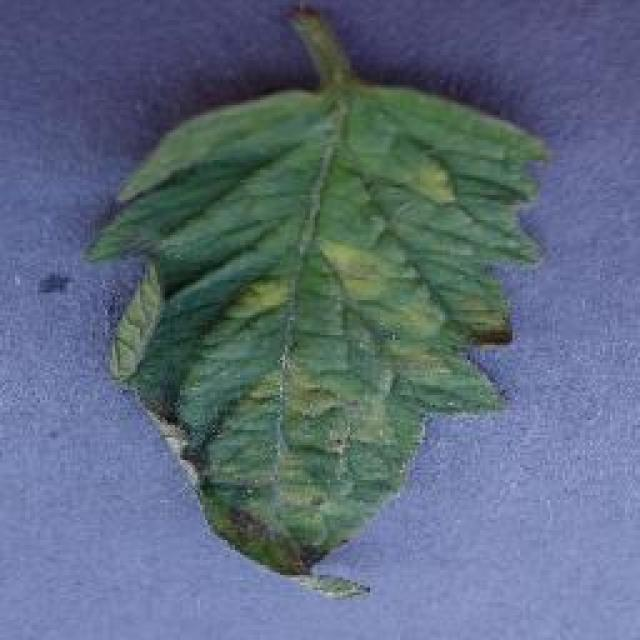Tomato___Leaf_Mold: (90, 5, 542, 595)
